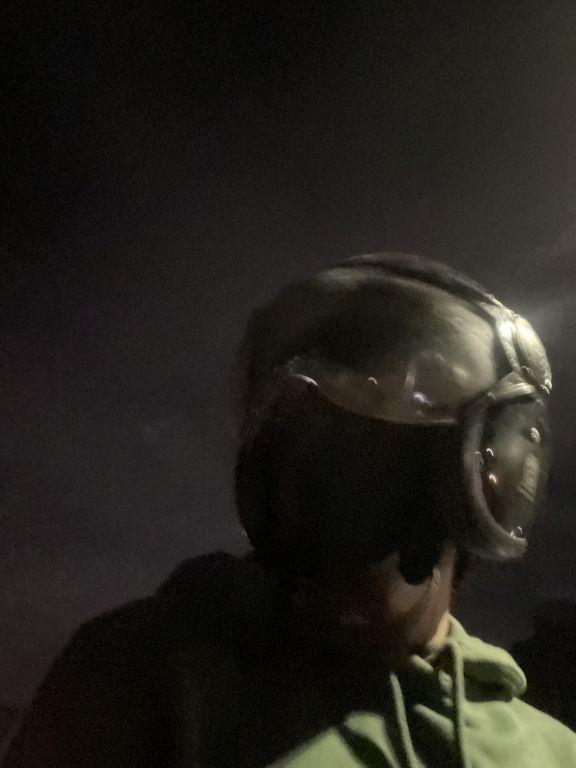helmet: (202, 232, 564, 585)
